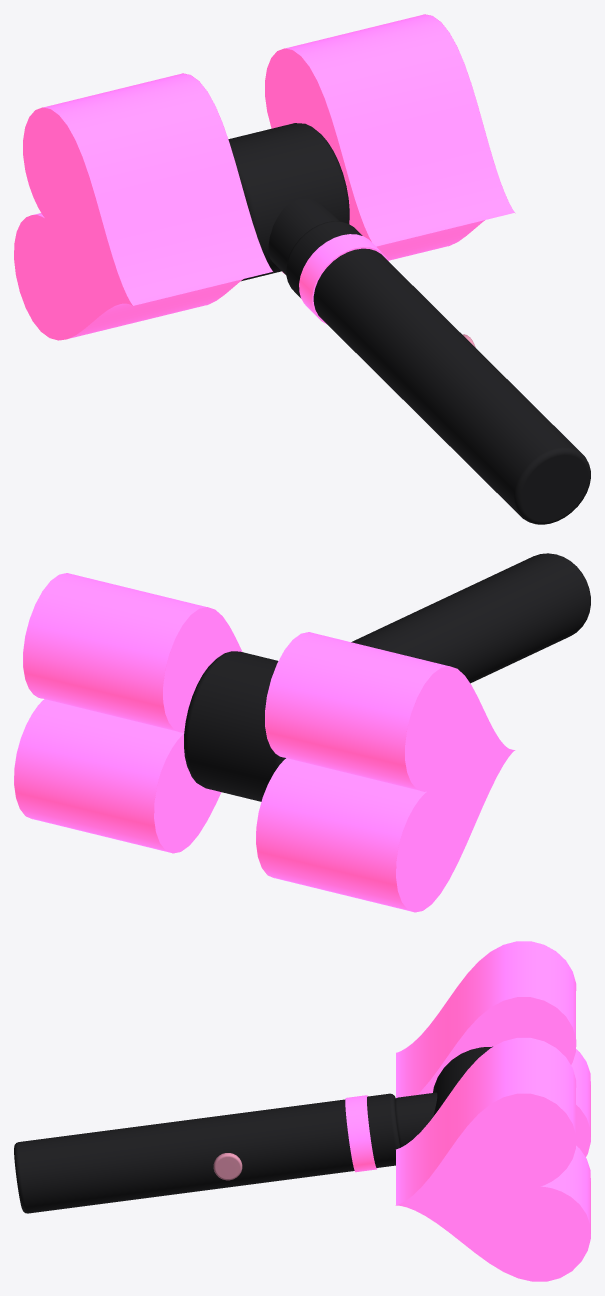
The model's file is lightstick-8a57a6f9.glb.
3 views of the same model, one above another, from view 1: azimuth 30°, elevation 25°; view 2: azimuth 150°, elevation 25°; view 3: azimuth 270°, elevation 25° (orthographic). The views are drawn at different scales.
Visible parts, largest first — view 1: Inspect · Lightstick · pink silicone heart.001, Inspect · Lightstick · pink silicone heart, Inspect · Lightstick · black handle, Inspect · Lightstick · black hub, Inspect · Lightstick · black neck, Inspect · Lightstick · pink band; view 2: Inspect · Lightstick · pink silicone heart.001, Inspect · Lightstick · pink silicone heart, Inspect · Lightstick · black handle, Inspect · Lightstick · black hub; view 3: Inspect · Lightstick · pink silicone heart, Inspect · Lightstick · black handle, Inspect · Lightstick · pink silicone heart.001, Inspect · Lightstick · pink band, Inspect · Lightstick · black neck, Inspect · Lightstick · black hub, Inspect · Lightstick · pink button.
Boxes of the visible parts, box(x1,y1,x2,y2) form: Inspect · Lightstick · pink silicone heart.001: box(14, 73, 272, 340); Inspect · Lightstick · pink silicone heart: box(265, 14, 515, 273); Inspect · Lightstick · black handle: box(286, 221, 590, 524); Inspect · Lightstick · black hub: box(228, 123, 349, 281); Inspect · Lightstick · black neck: box(268, 198, 339, 274); Inspect · Lightstick · pink band: box(299, 234, 388, 324); Inspect · Lightstick · pink silicone heart.001: box(256, 632, 515, 912); Inspect · Lightstick · pink silicone heart: box(14, 573, 242, 853); Inspect · Lightstick · black handle: box(351, 553, 590, 683); Inspect · Lightstick · black hub: box(184, 651, 285, 801); Inspect · Lightstick · pink silicone heart: box(395, 1037, 590, 1281); Inspect · Lightstick · black handle: box(14, 1093, 400, 1213); Inspect · Lightstick · pink silicone heart.001: box(396, 941, 590, 1156); Inspect · Lightstick · pink band: box(345, 1095, 377, 1172); Inspect · Lightstick · black neck: box(395, 1092, 437, 1147); Inspect · Lightstick · black hub: box(433, 1046, 492, 1115); Inspect · Lightstick · pink button: box(213, 1153, 242, 1180).
Size of the model in its own units: 0.36 by 0.2122 by 0.5757.
